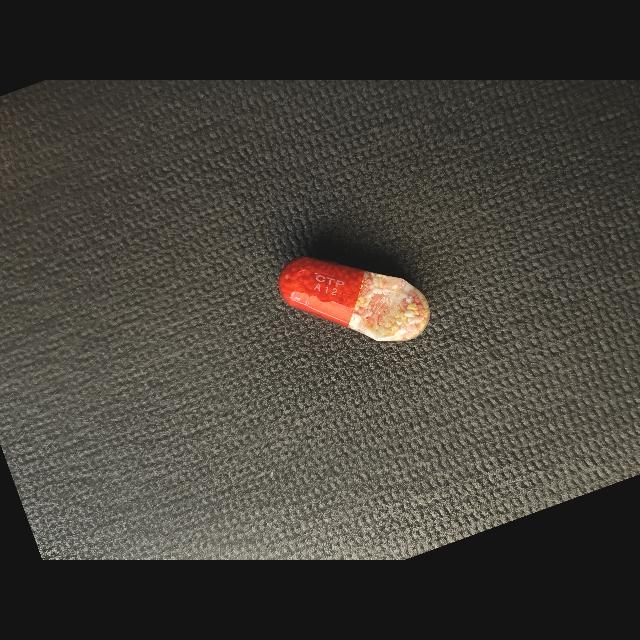Defective Capsule: (279, 257, 430, 341)
